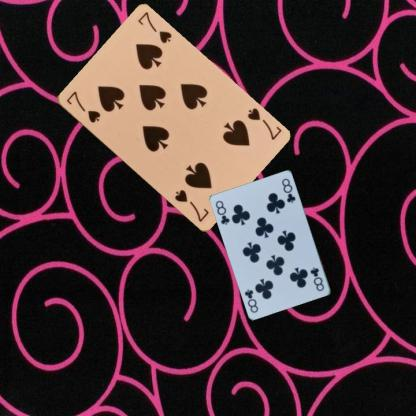7s: (244, 104, 282, 142), (63, 88, 102, 124)
8c: (213, 198, 231, 227), (308, 265, 325, 292)
